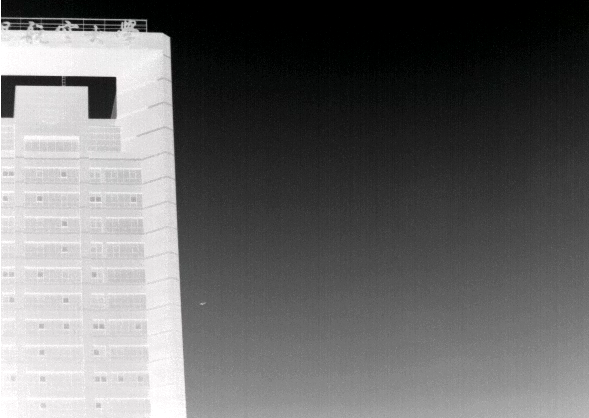dim target: (199, 301, 206, 306)
